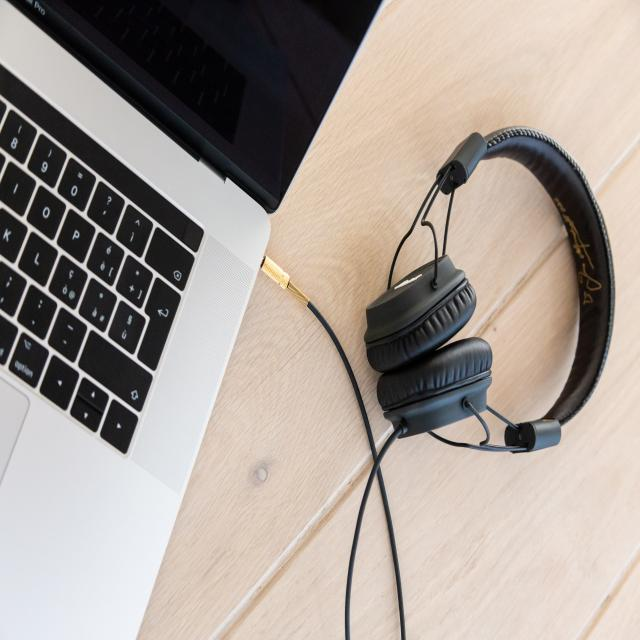Headphone: (364, 125, 616, 459)
